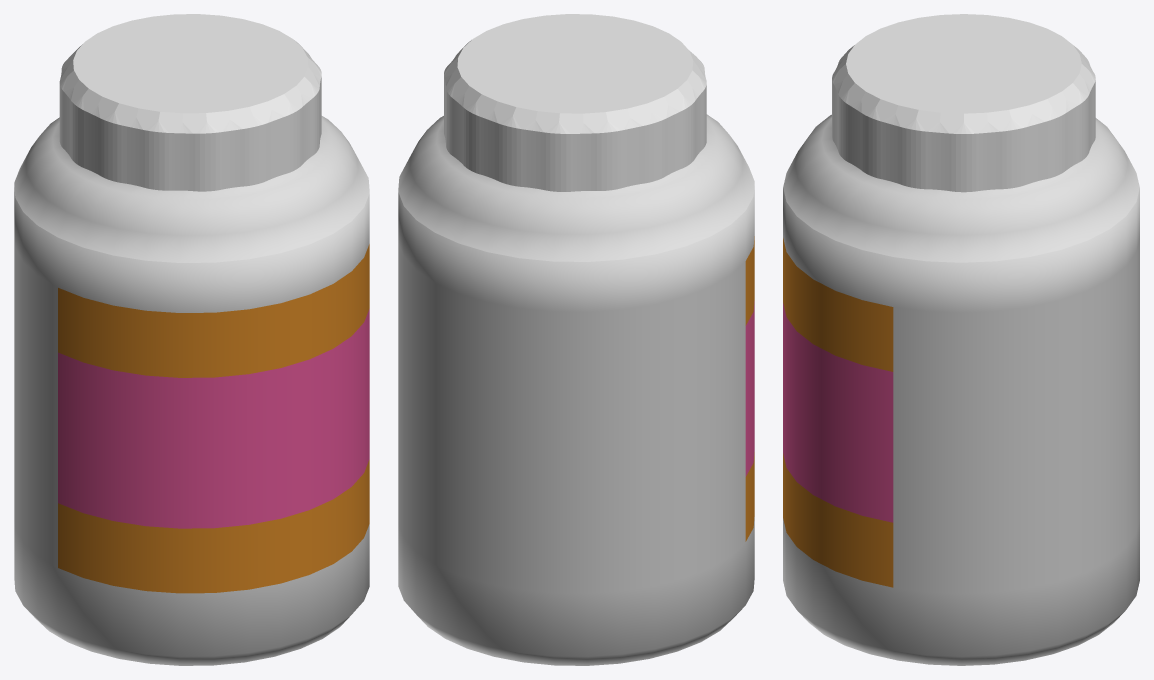
File: antibiotics.fbx
3 views of the same model, side by side, from view 1: azimuth 30°, elevation 25°; view 2: azimuth 150°, elevation 25°; view 3: azimuth 270°, elevation 25° (orthographic).
Visible parts, largest first — view 1: Cylinder, Cylinder.001; view 2: Cylinder, Cylinder.001; view 3: Cylinder, Cylinder.001.
Part boxes in pixels (bbox=[...]): Cylinder: bbox=[14, 116, 369, 665]; Cylinder.001: bbox=[59, 14, 321, 191]; Cylinder: bbox=[398, 114, 754, 665]; Cylinder.001: bbox=[444, 14, 706, 191]; Cylinder: bbox=[783, 114, 1139, 665]; Cylinder.001: bbox=[832, 14, 1095, 192].
Bounding box in the file's own units: 62.42 × 103 × 62.42.
